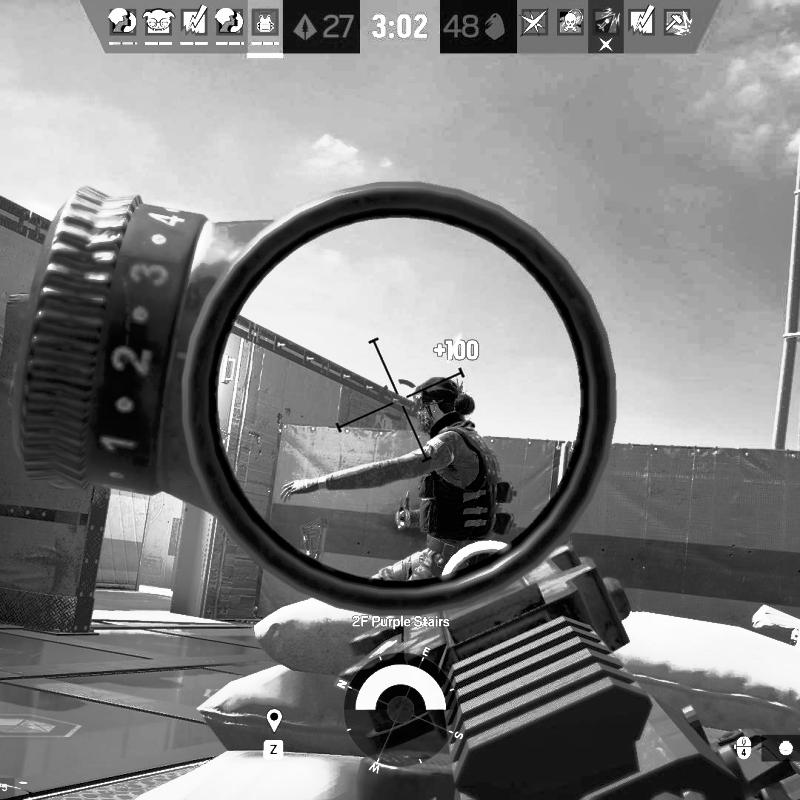Character: (278, 374, 518, 587)
Head: (411, 376, 476, 436)
